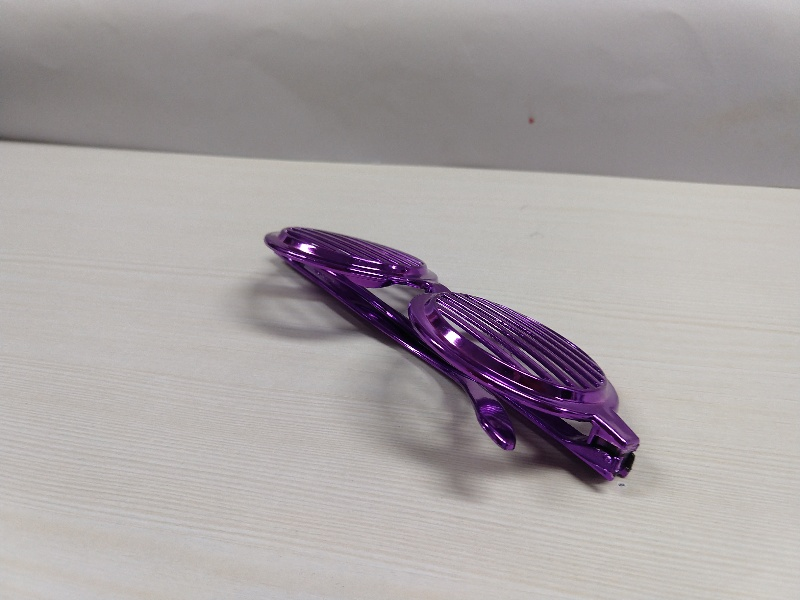shades: (259, 213, 639, 489)
